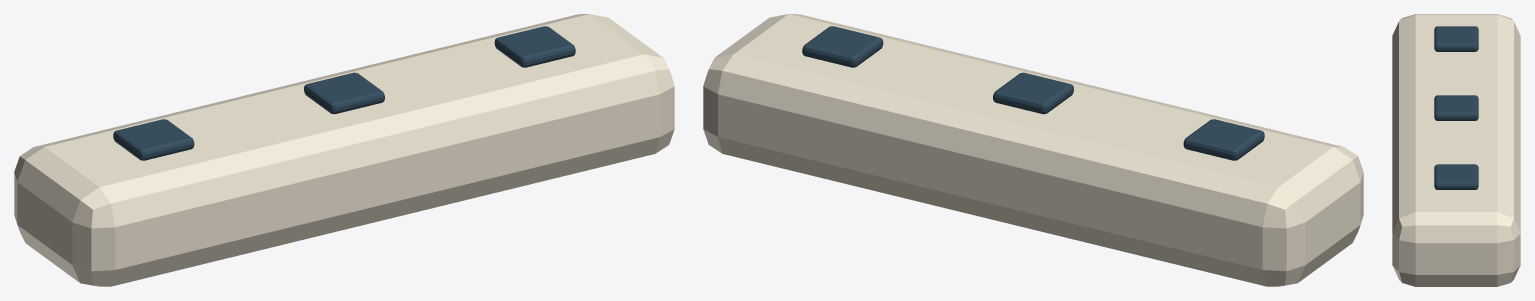
File: power_strip.glb
The picture shows the model from 3 angles, left to right: view 1: azimuth 30°, elevation 25°; view 2: azimuth 150°, elevation 25°; view 3: azimuth 270°, elevation 25°; orthographic projection. The views are drawn at different scales.
Visible parts, largest first — view 1: power_strip_Mesh; view 2: power_strip_Mesh; view 3: power_strip_Mesh.
Part boxes in pixels (x1=…): power_strip_Mesh: x1=14, y1=14, x2=674, y2=286; power_strip_Mesh: x1=703, y1=14, x2=1363, y2=286; power_strip_Mesh: x1=1392, y1=14, x2=1520, y2=286.
Bounding box in the file's own units: 0.22 × 0.0395 × 0.055.
